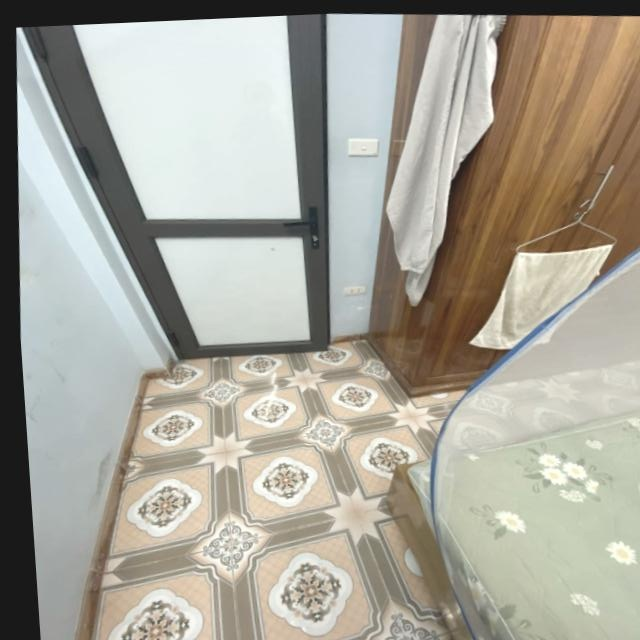outlet: (343, 283, 369, 297)
